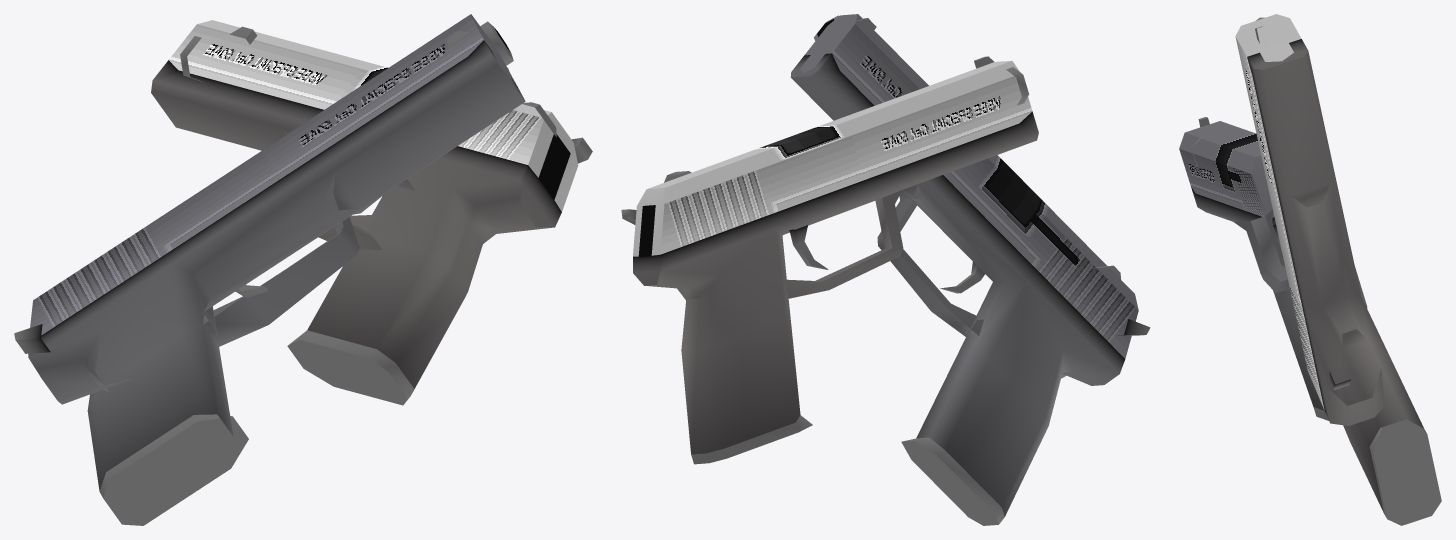
The model's file is ps2_save-icons_timecrisis2.glb.
The picture shows the model from 3 angles, left to right: view 1: azimuth 30°, elevation 25°; view 2: azimuth 150°, elevation 25°; view 3: azimuth 270°, elevation 25°; orthographic projection. The views are drawn at different scales.
Parts seen in each view (by area): view 1: timecrisis2.ico; view 2: timecrisis2.ico; view 3: timecrisis2.ico.
Part boxes in pixels (bbox=[...]): timecrisis2.ico: bbox=[14, 14, 592, 525]; timecrisis2.ico: bbox=[621, 14, 1150, 525]; timecrisis2.ico: bbox=[1179, 14, 1441, 525].
Size of the model in its own units: 4.69 by 3.89 by 2.19.
1 material, 1 textured.
